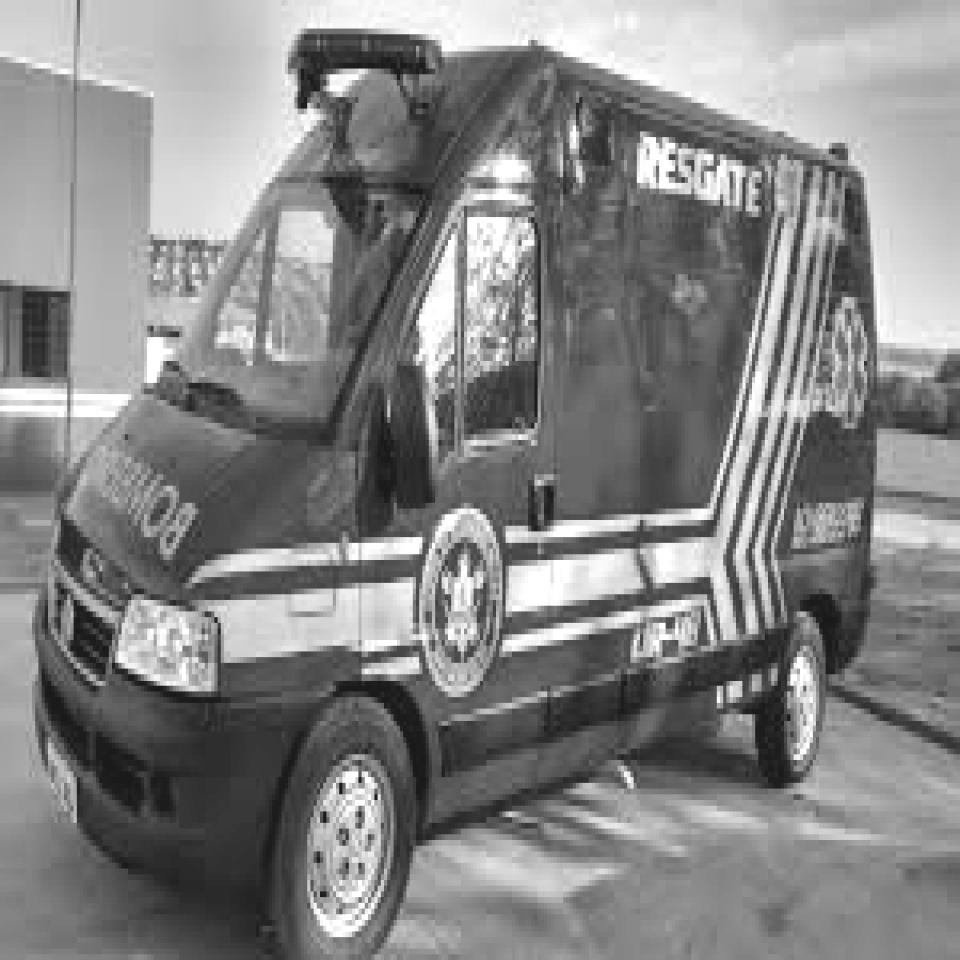bombeiro: (33, 26, 878, 960)
